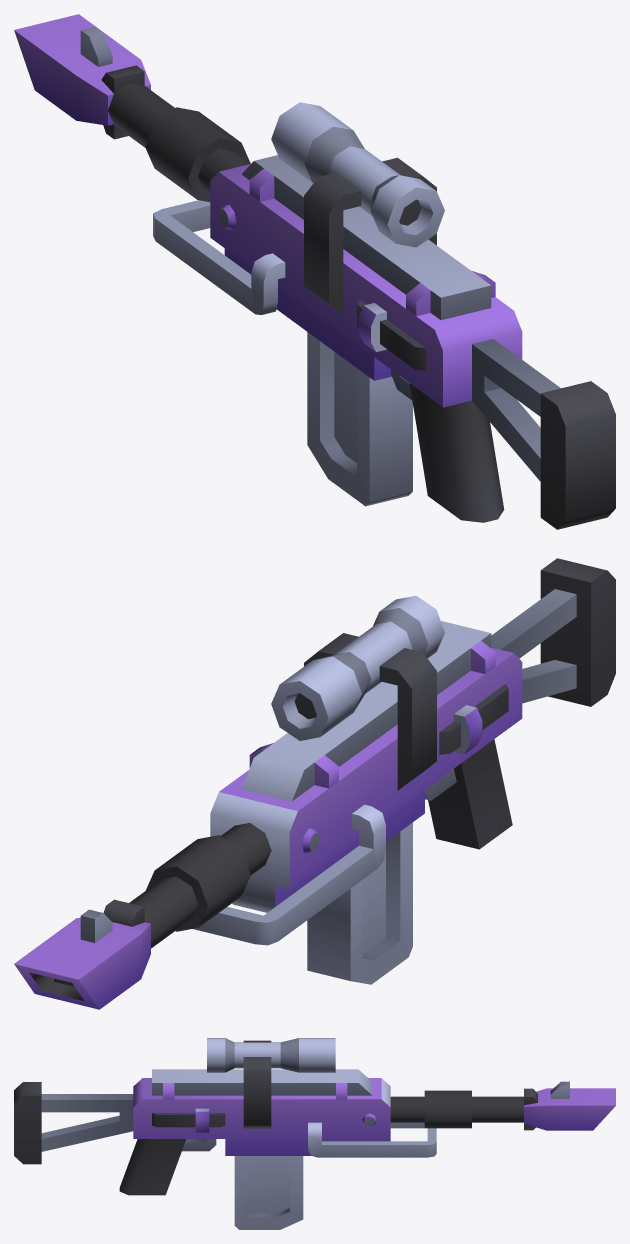
Rendered from kenney-blaster-blaster-f.glb.
3 renders of one model, top to bottom at view 1: azimuth 30°, elevation 25°; view 2: azimuth 150°, elevation 25°; view 3: azimuth 270°, elevation 25°, orthographic. The views are drawn at different scales.
Parts seen in each view (by area): view 1: blaster-f; view 2: blaster-f; view 3: blaster-f.
Part boxes in pixels (left/top/right/bottom): blaster-f: left=14, top=14, right=615, bottom=529; blaster-f: left=14, top=558, right=615, bottom=1009; blaster-f: left=14, top=1038, right=615, bottom=1229.
Bounding box in the file's own units: 0.17 × 0.4449 × 1.31.
1 material, 1 textured.
